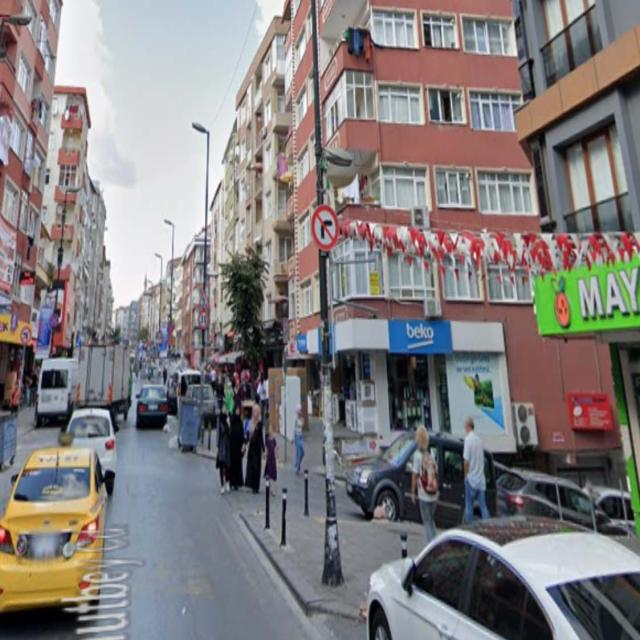sagadonulmez: (313, 205, 340, 249)
soladonulmez: (20, 326, 32, 345)
